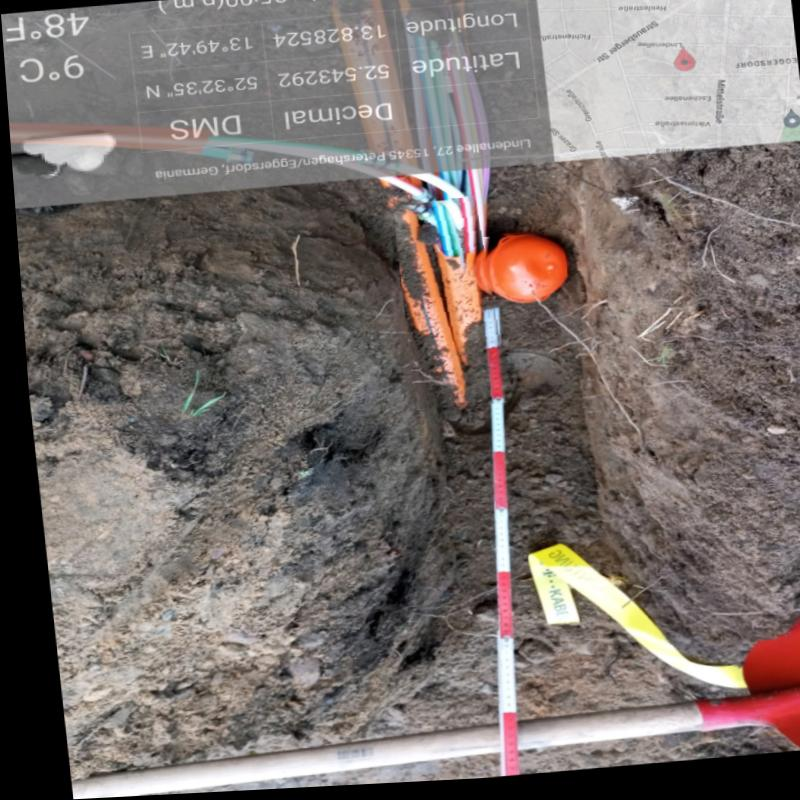Kugelmarker: (479, 238, 561, 308)
Orang-Speednetrohrchen: (393, 207, 476, 410)
